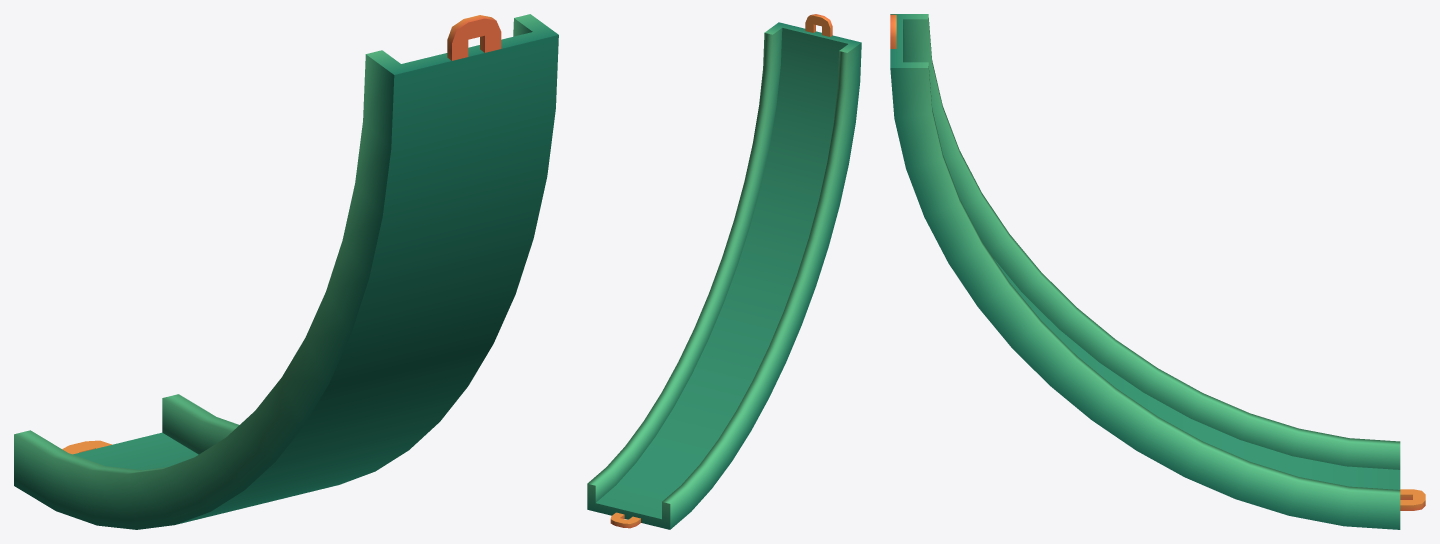
Rendered from track-narrow-straight-bend-large.fbx.
3 views of the same model, side by side, from view 1: azimuth 30°, elevation 25°; view 2: azimuth 150°, elevation 25°; view 3: azimuth 270°, elevation 25° (orthographic). The views are drawn at different scales.
Parts seen in each view (by area): view 1: track-narrow-straight-bend-large; view 2: track-narrow-straight-bend-large; view 3: track-narrow-straight-bend-large.
Part boxes in pixels (x1,y1,x2,y2): track-narrow-straight-bend-large: (14,14,558,529); track-narrow-straight-bend-large: (587,14,861,529); track-narrow-straight-bend-large: (890,14,1425,529).
Bounding box in the file's own units: 100 × 420 × 420.
